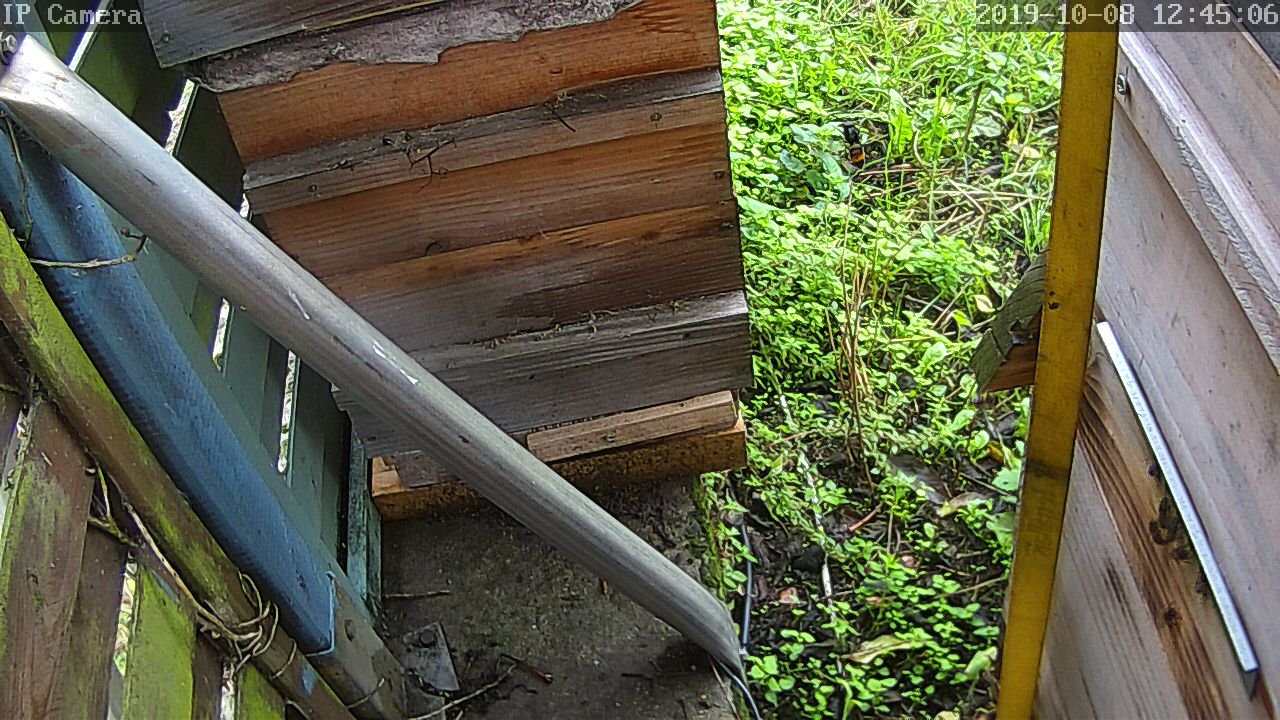bee: (1147, 494, 1183, 542), (1158, 533, 1197, 568), (1189, 572, 1212, 609)
hornet: (835, 118, 875, 170)
